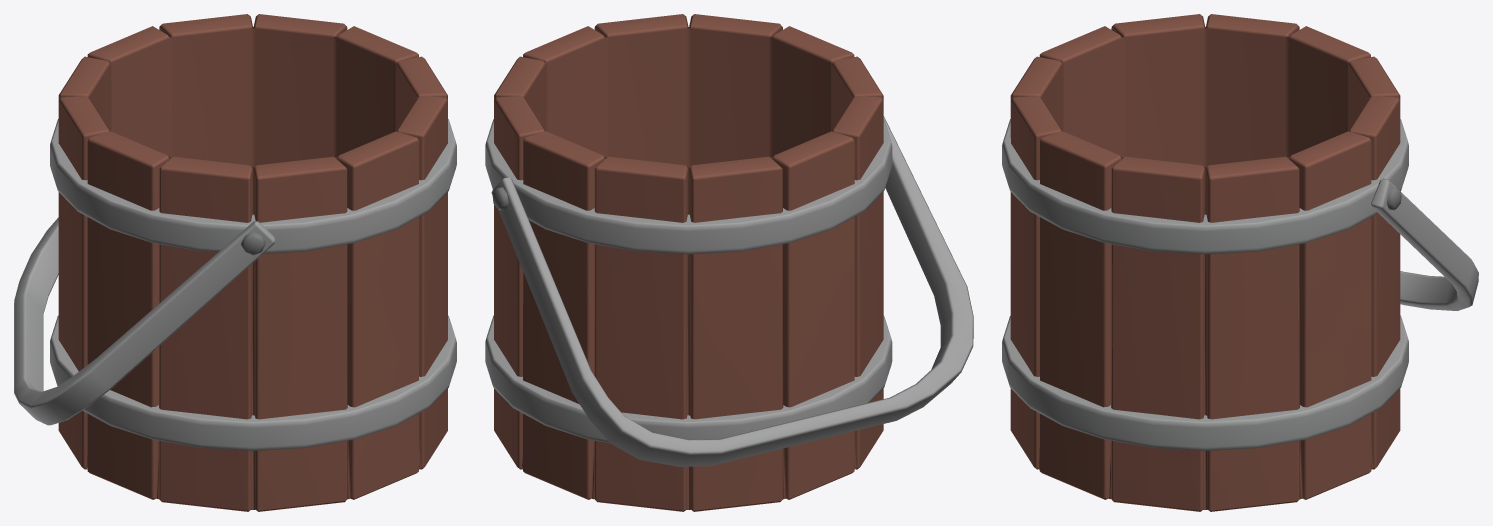
Rendered from Farm_8_Balde_1.glb.
3 views of the same model, side by side, from view 1: azimuth 30°, elevation 25°; view 2: azimuth 150°, elevation 25°; view 3: azimuth 270°, elevation 25° (orthographic).
Visible parts, largest first — view 1: Farm_8_Balde_1; view 2: Farm_8_Balde_1; view 3: Farm_8_Balde_1.
Part boxes in pixels (<box>): Farm_8_Balde_1: <box>14,14,456,511</box>; Farm_8_Balde_1: <box>485,14,973,511</box>; Farm_8_Balde_1: <box>1002,14,1478,511</box>.
Size of the model in its own units: 0.4838 by 0.3667 by 0.4716.
1 material, 1 textured.
